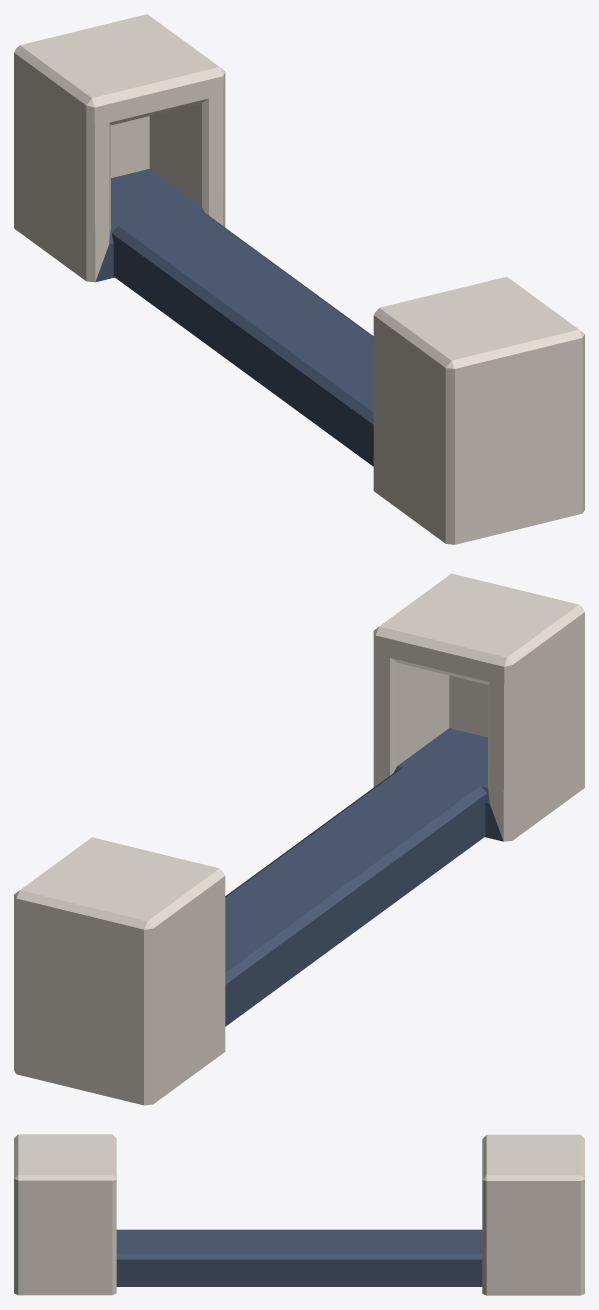
File: SushiBelt.fbx
3 renders of one model, top to bottom at view 1: azimuth 30°, elevation 25°; view 2: azimuth 150°, elevation 25°; view 3: azimuth 270°, elevation 25°, orthographic. The views are drawn at different scales.
Visible parts, largest first — view 1: OrderConveyorLeft, OrderConveyorRight, Belt; view 2: OrderConveyorRight, OrderConveyorLeft, Belt; view 3: Belt, OrderConveyorLeft, OrderConveyorRight.
Part boxes in pixels (left/top/right/bottom): OrderConveyorLeft: left=373, top=276, right=584, bottom=544; OrderConveyorRight: left=14, top=14, right=225, bottom=282; Belt: left=111, top=207, right=373, bottom=466; OrderConveyorRight: left=14, top=837, right=225, bottom=1105; OrderConveyorLeft: left=373, top=573, right=584, bottom=841; Belt: left=225, top=767, right=486, bottom=1026; Belt: left=116, top=1229, right=482, bottom=1286; OrderConveyorLeft: left=14, top=1134, right=116, bottom=1295; OrderConveyorRight: left=482, top=1134, right=584, bottom=1295.
Bounding box in the file's own units: 97.16 × 122 × 530.
